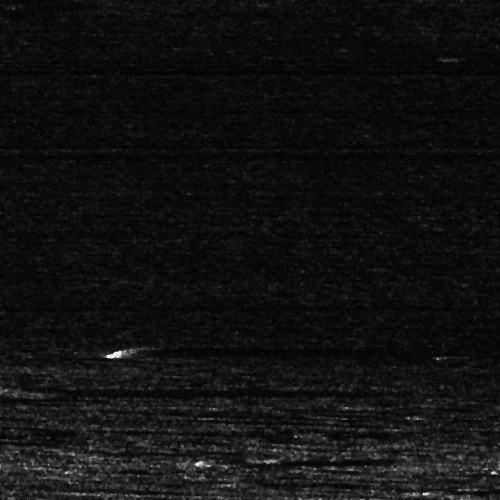object: (0, 385, 101, 396), (88, 346, 141, 357), (202, 455, 265, 464)
shadow: (114, 346, 440, 357), (23, 385, 343, 396), (234, 455, 405, 464), (0, 427, 63, 434), (0, 392, 37, 401)
